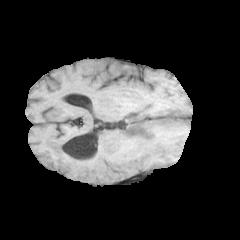glioma: (44, 111, 186, 171)
